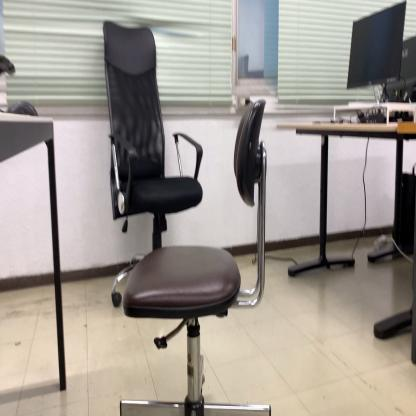chair: (118, 97, 270, 416), (102, 18, 204, 309)
